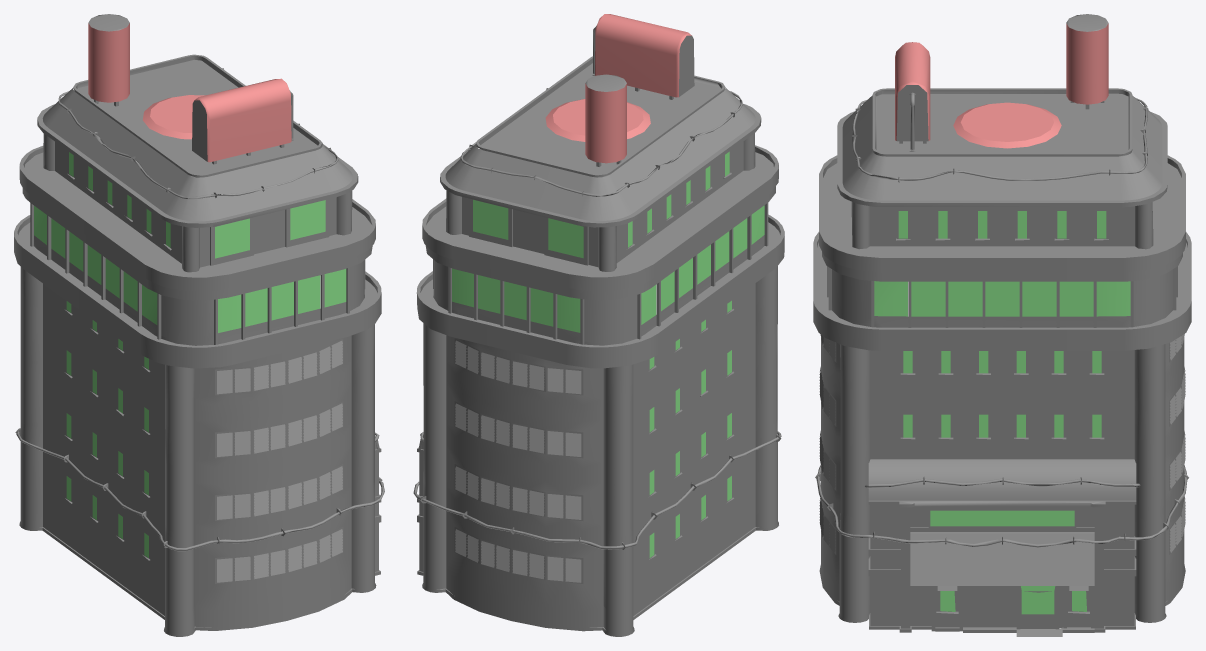
File: SM_ENV_LKNVLD03_CommonBuilding_D.gltf
3 renders of one model, left to right at view 1: azimuth 30°, elevation 25°; view 2: azimuth 150°, elevation 25°; view 3: azimuth 270°, elevation 25°, orthographic. The views are drawn at different scales.
Parts seen in each view (by area): view 1: SM_ENV_LKNVLD03_CommonBuilding_D; view 2: SM_ENV_LKNVLD03_CommonBuilding_D; view 3: SM_ENV_LKNVLD03_CommonBuilding_D.
Part boxes in pixels (left/top/right/bottom): SM_ENV_LKNVLD03_CommonBuilding_D: left=14, top=14, right=384, bottom=636; SM_ENV_LKNVLD03_CommonBuilding_D: left=413, top=14, right=784, bottom=636; SM_ENV_LKNVLD03_CommonBuilding_D: left=813, top=14, right=1191, bottom=636.
Bounding box in the file's own units: 24.94 × 49.06 × 32.06.
